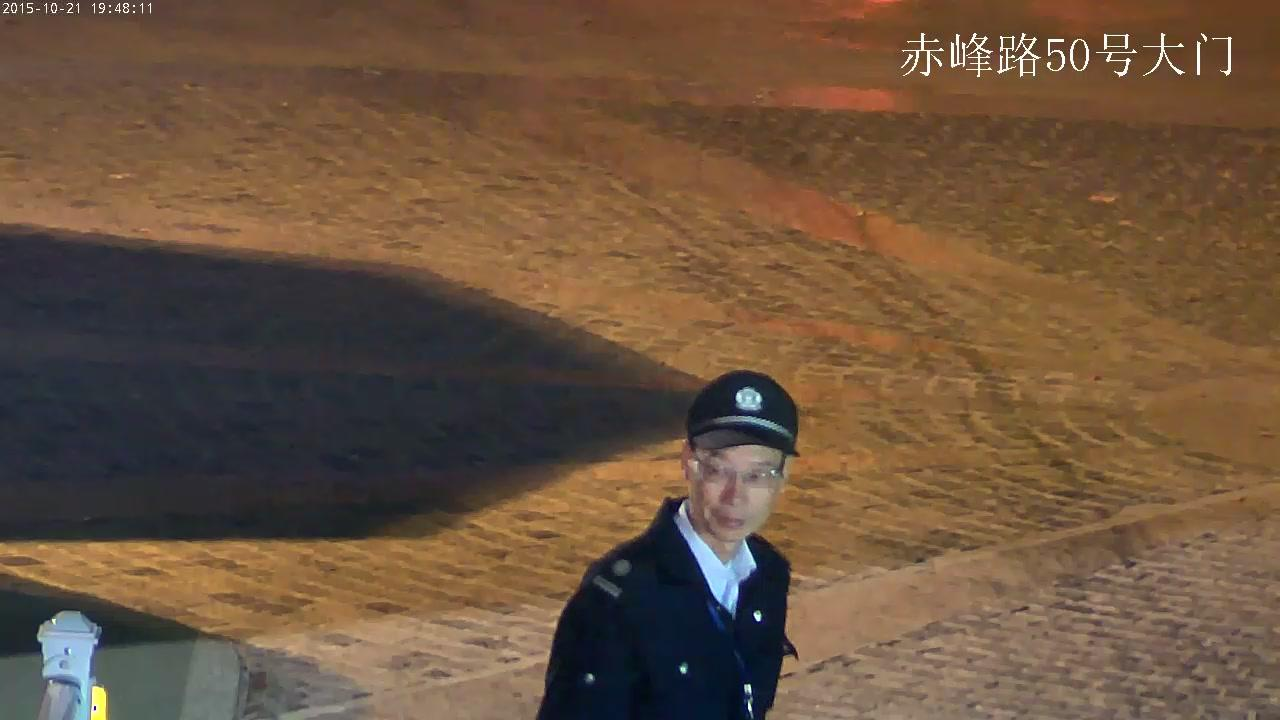person: (536, 369, 801, 720)
